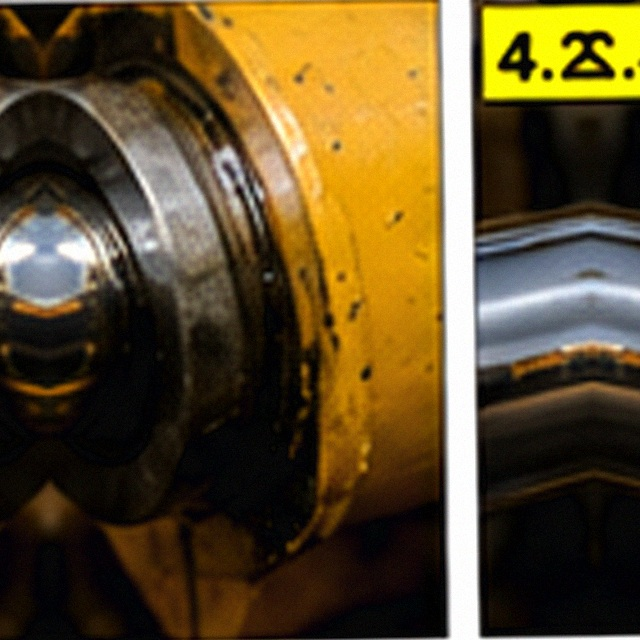hydraulic_oil_leak: (157, 206, 467, 475)
